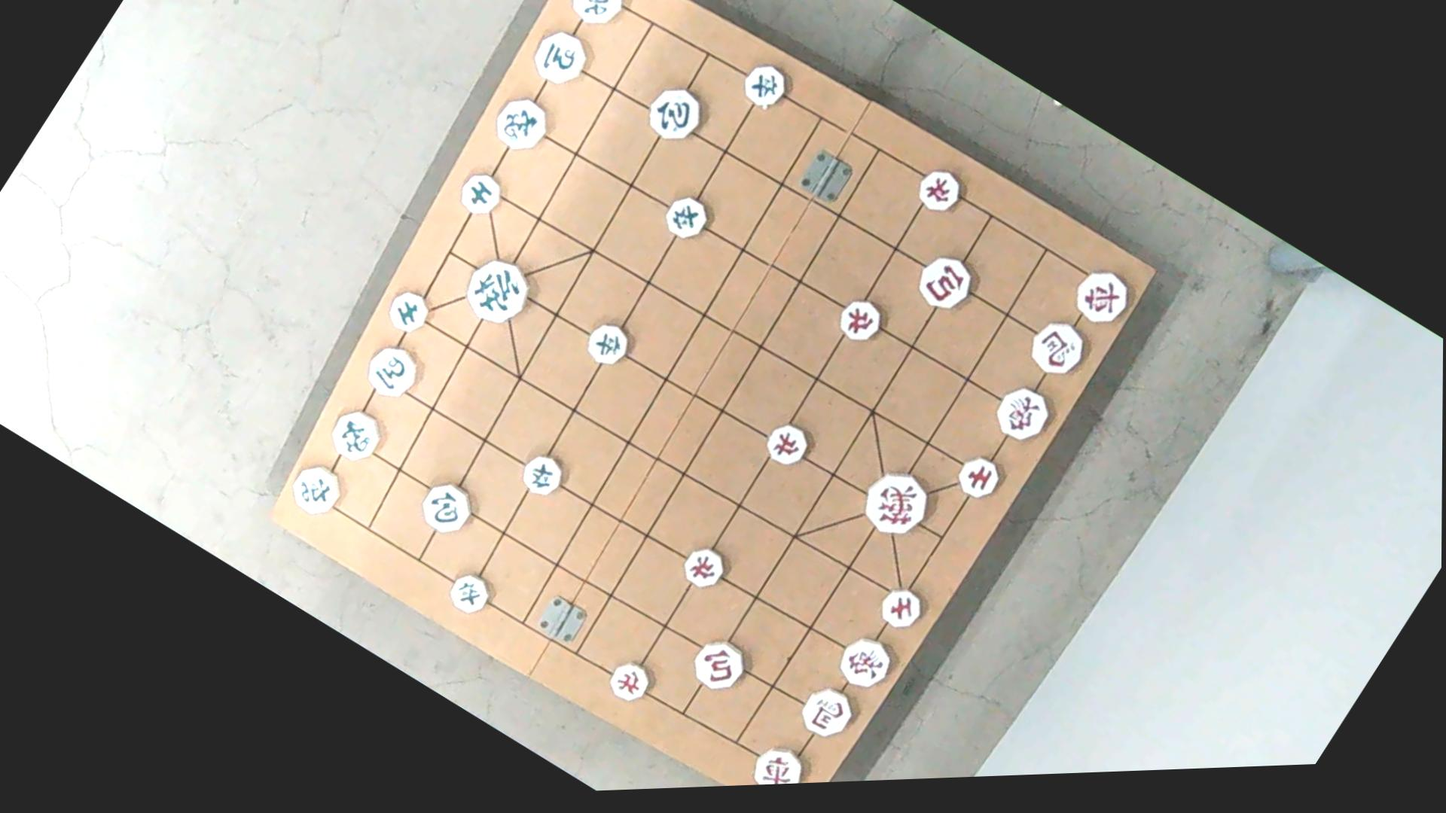cha_green: (282, 455, 348, 521), (565, 0, 636, 32)
cha_red: (1066, 259, 1139, 331), (745, 738, 810, 785)
jol_green: (740, 56, 797, 114), (582, 317, 638, 372), (659, 190, 715, 245), (515, 449, 571, 503), (444, 566, 499, 618)
jol_red: (910, 159, 972, 222), (675, 537, 734, 598), (759, 417, 816, 473), (835, 291, 890, 346), (605, 656, 658, 708)
ma_green: (524, 21, 593, 90), (359, 338, 427, 404)
ma_red: (1023, 312, 1092, 381), (795, 677, 862, 742)
po_green: (639, 77, 708, 146), (413, 473, 480, 540)
po_red: (912, 246, 983, 318), (688, 629, 753, 695)
sa_green: (384, 283, 438, 337), (455, 165, 508, 218)
sa_red: (873, 578, 929, 635), (951, 449, 1008, 504)
sang_green: (482, 87, 560, 165), (322, 402, 388, 467)
sang_red: (988, 376, 1059, 446), (831, 629, 898, 696)
wang_green: (458, 248, 541, 331)
wang_red: (859, 461, 942, 544)
